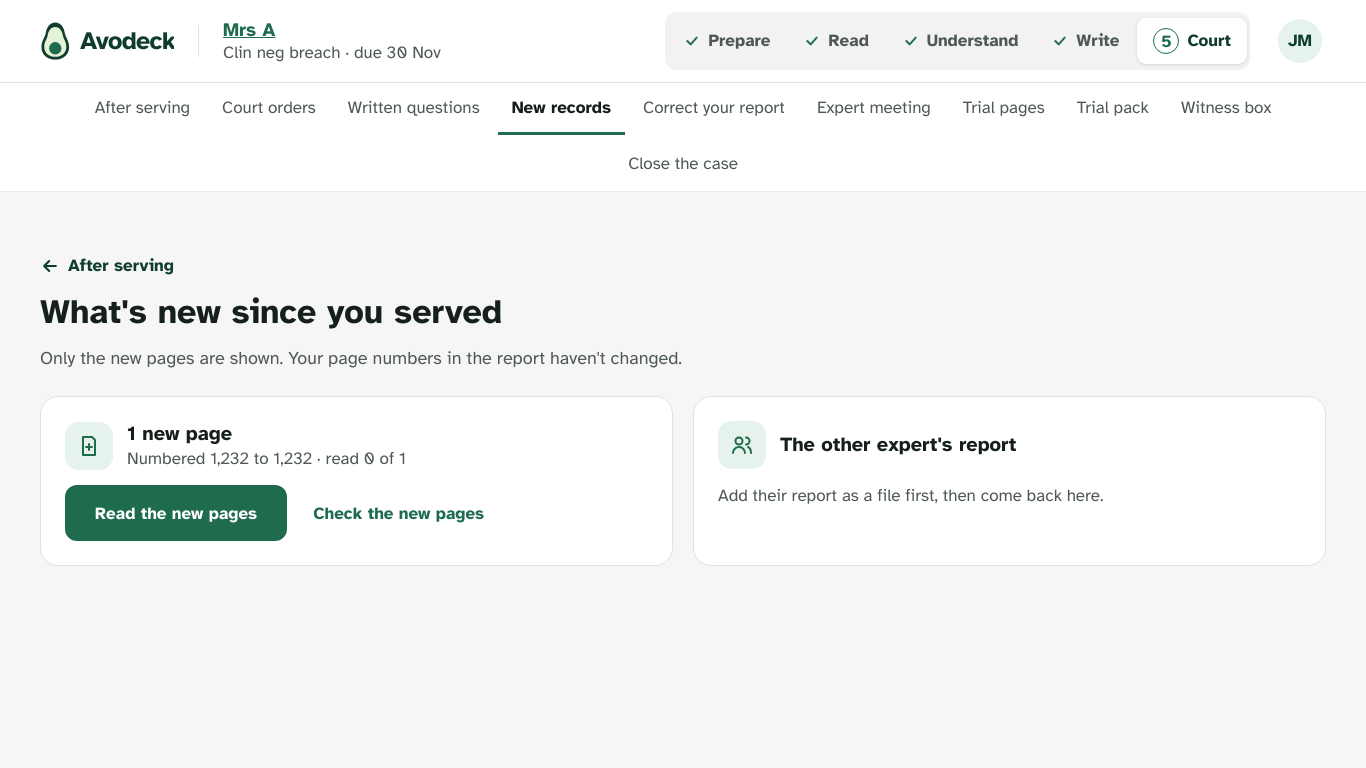
the check is queued and says it is working
Click the button "Check the new pages": (399, 513) [303,487,494,539]
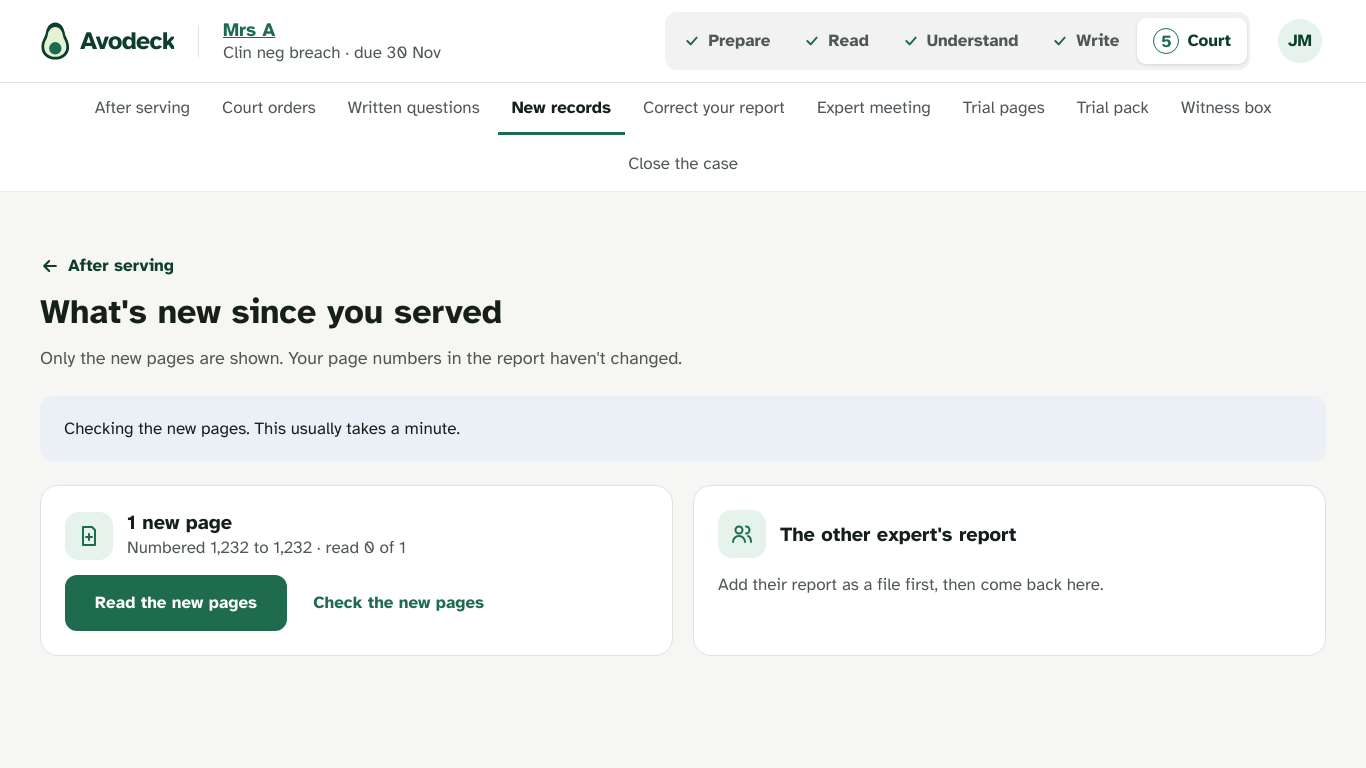
Expected: the text "Checking the new pages. This usually takes a minute." is shown, [64,418,460,439]
